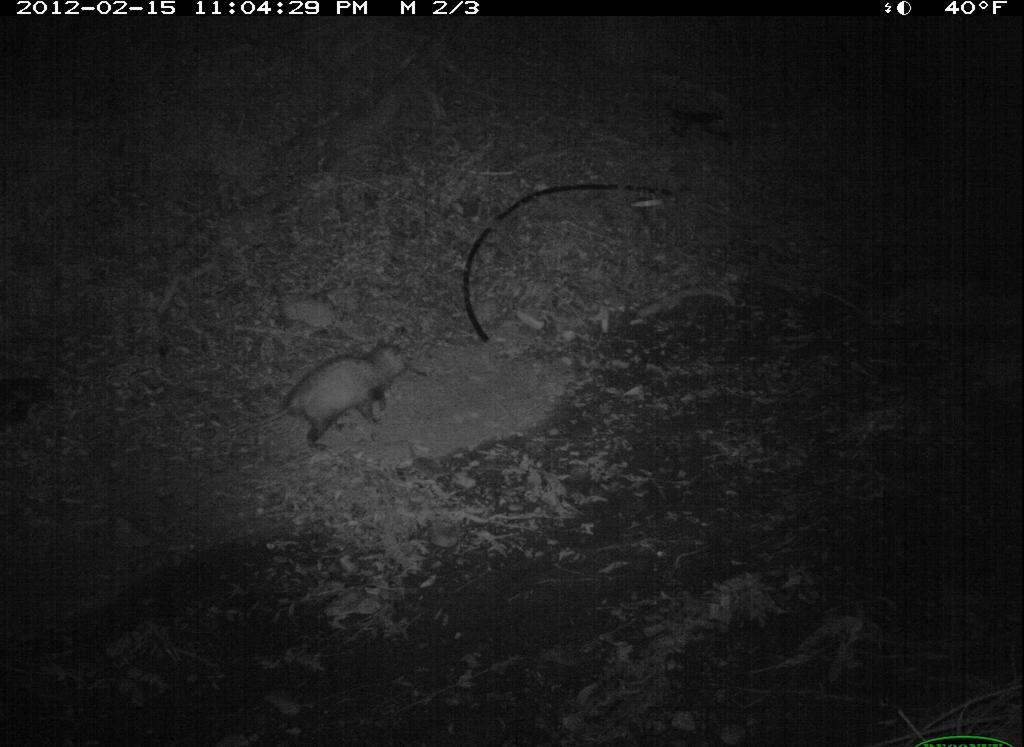opossum: (230, 337, 415, 457)
